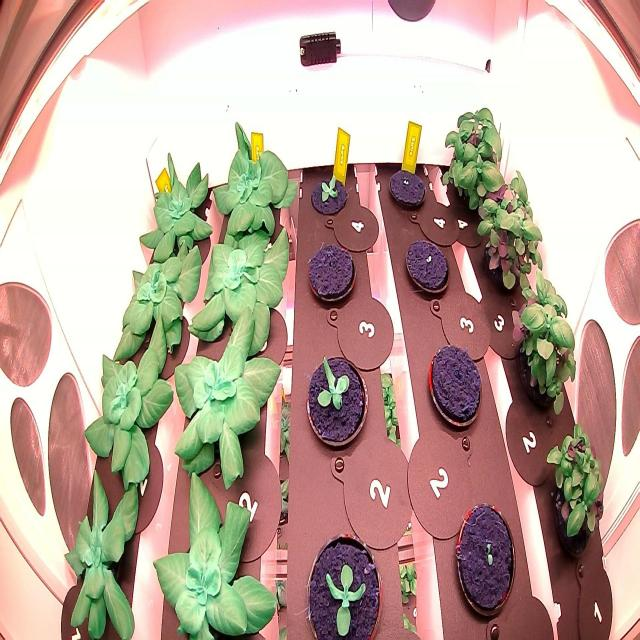germination: (449, 494, 521, 627), (400, 232, 454, 304), (384, 158, 430, 220)
pod: (422, 337, 489, 437), (303, 239, 359, 309)
young: (168, 302, 290, 492), (148, 466, 280, 640), (188, 208, 293, 361), (60, 461, 148, 639), (81, 342, 174, 502), (111, 234, 205, 380), (137, 137, 216, 288), (208, 119, 298, 242), (304, 526, 385, 640), (299, 347, 373, 452), (307, 162, 356, 223)
